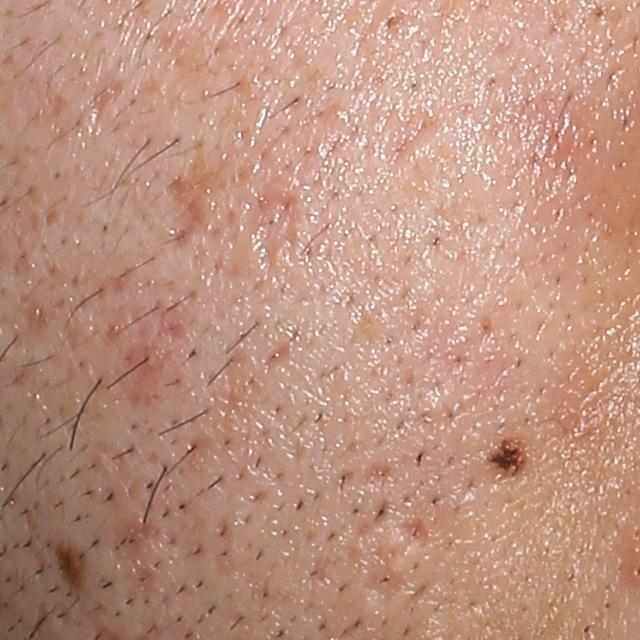atrophic_scar: (245, 190, 301, 270), (157, 172, 209, 249), (118, 336, 167, 410), (360, 544, 406, 609), (394, 106, 439, 162), (87, 76, 124, 132), (111, 519, 160, 559), (181, 432, 211, 473), (357, 460, 393, 490), (400, 511, 430, 543)
nevus: (484, 440, 530, 480), (55, 542, 89, 592)
